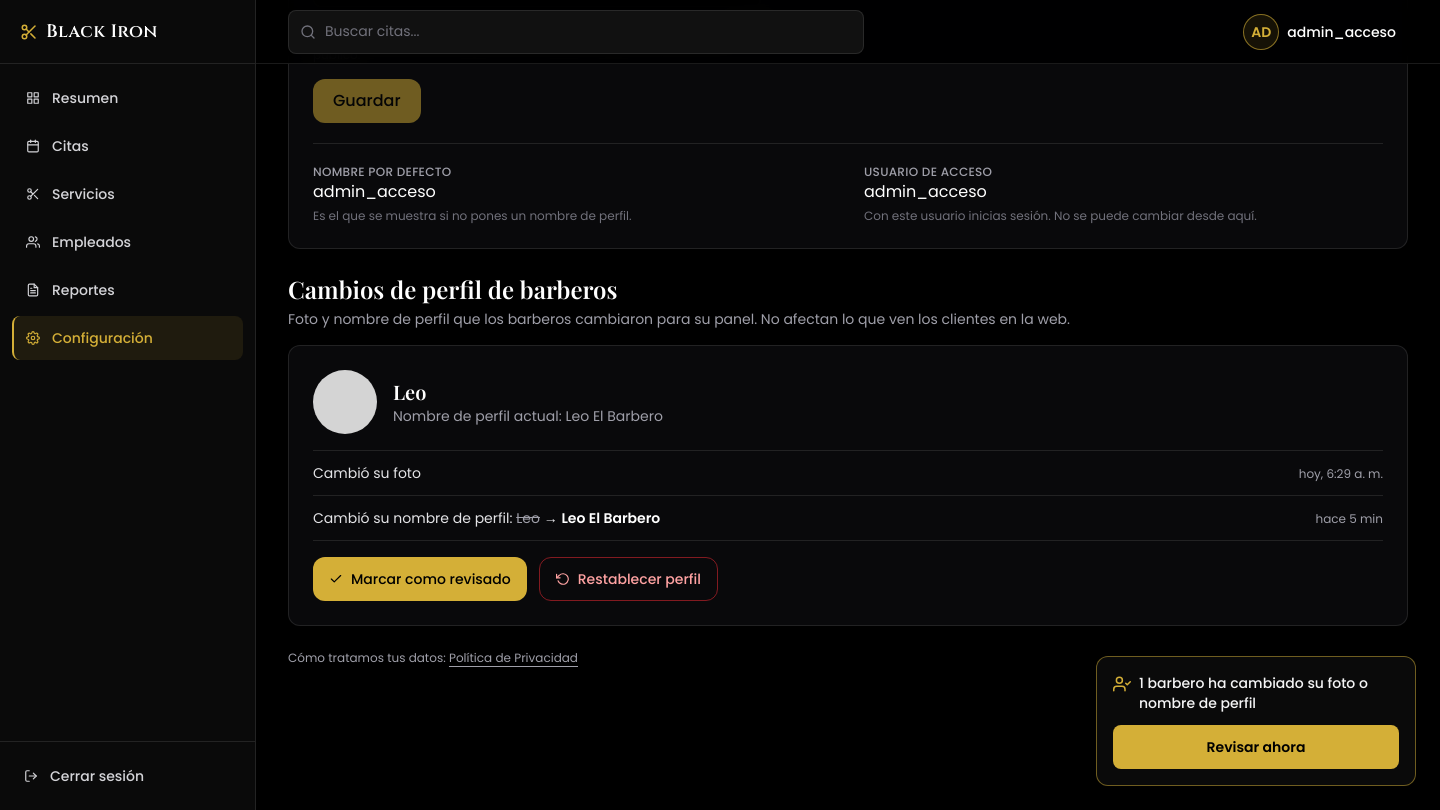
Vista de revisión en /admin/configuracion › "Restablecer perfil" pide confirmación con el foco en Cancelar y explica qué pasa; cancelar no hace nada
(page scrolled)
Click the button with aria-label "Restablecer el perfil de Leo" at x=628, y=579, box [539,557,718,601]
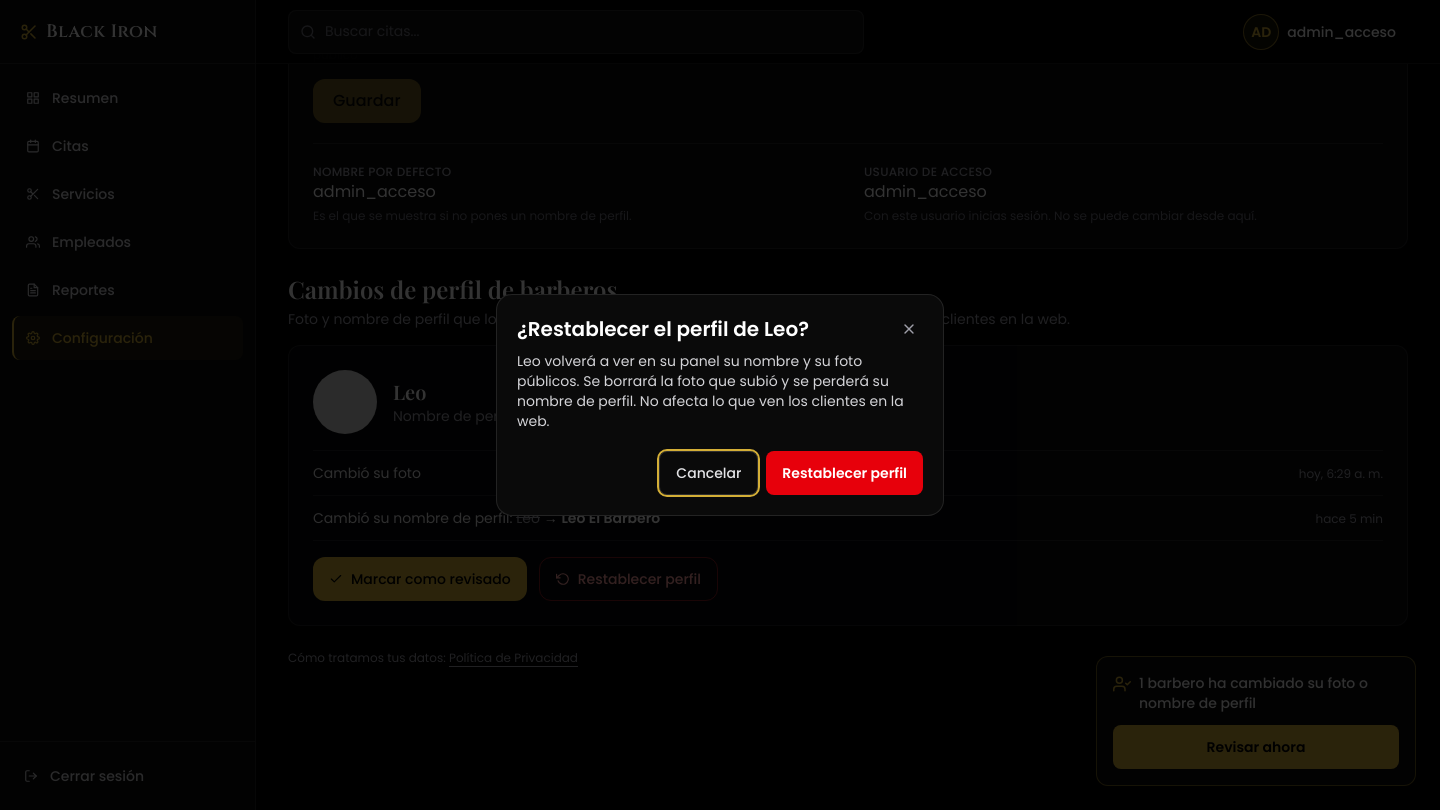
Result: the text "no afecta lo que ven los clientes en la web" is shown at [517,351,904,431]
Click the button "Cancelar" at x=709, y=473, box [659,451,758,495]
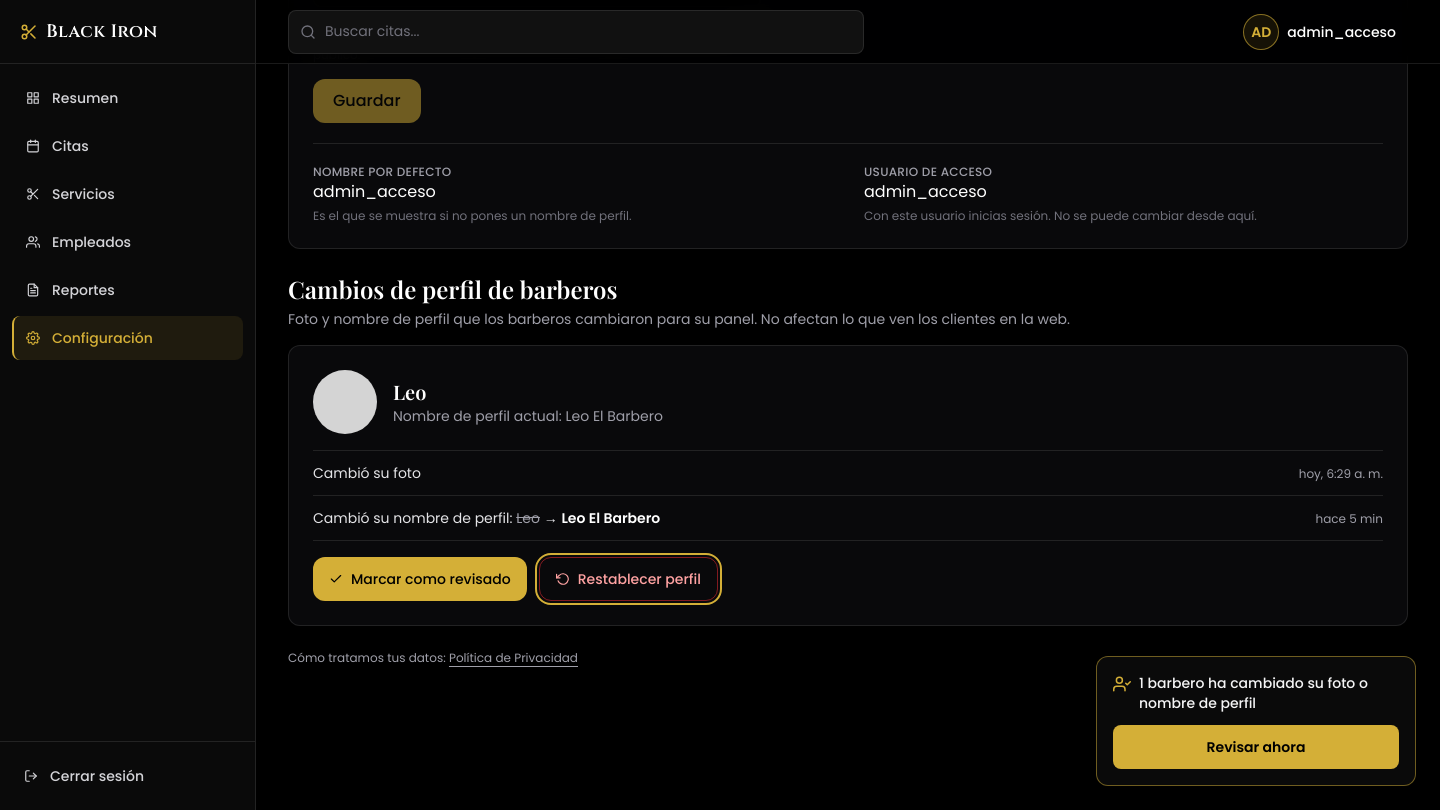
Expected: the element named "Cambios de perfil de Leo" is shown, [288,345,1408,626]
Result: the dialog is gone
